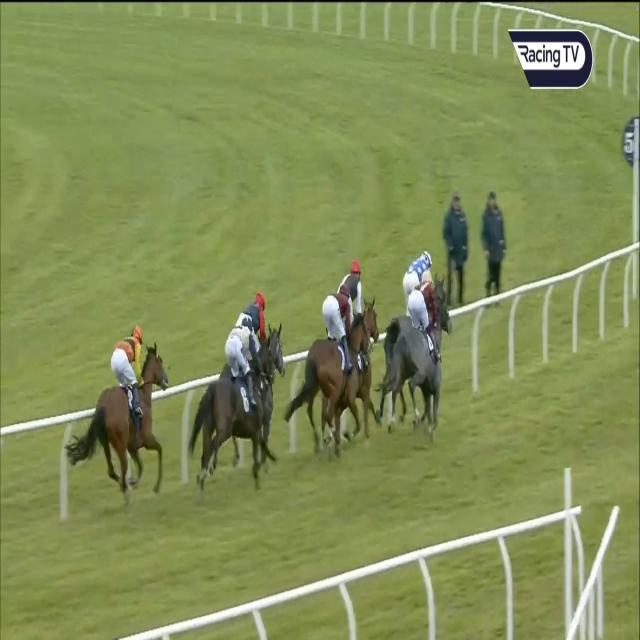horses-racing: (291, 284, 389, 463), (80, 317, 172, 498), (206, 296, 280, 487), (393, 284, 471, 440), (239, 288, 289, 432), (387, 242, 442, 354), (331, 243, 384, 342)
